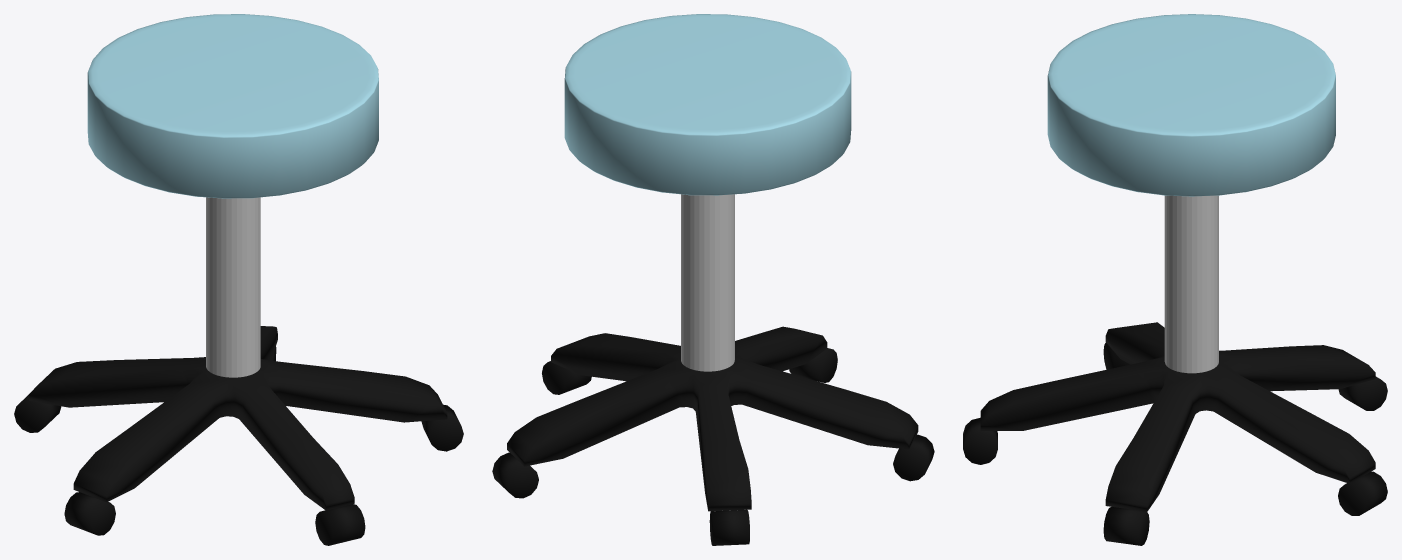
The model's file is Chair_rolling.fbx.
3 views of the same model, side by side, from view 1: azimuth 30°, elevation 25°; view 2: azimuth 150°, elevation 25°; view 3: azimuth 270°, elevation 25° (orthographic).
Visible parts, largest first — view 1: Chair - seat, Chair - plastic, Chair - rolling, ChairWheel, ChairWheel.001, ChairWheel.002, ChairWheel.004; view 2: Chair - seat, Chair - plastic, Chair - rolling, ChairWheel.003, ChairWheel.004, ChairWheel.001, ChairWheel.002, ChairWheel; view 3: Chair - seat, Chair - plastic, Chair - rolling, ChairWheel.002, ChairWheel.003, ChairWheel, ChairWheel.004.
Part boxes in pixels (x1,y1,x2,y2): Chair - seat: (87,14,378,198); Chair - plastic: (29,326,447,510); Chair - rolling: (206,197,260,377); ChairWheel: (315,504,365,545); ChairWheel.001: (64,492,115,535); ChairWheel.002: (421,404,463,451); ChairWheel.004: (14,394,61,432); Chair - seat: (564,14,851,195); Chair - plastic: (507,326,918,511); Chair - rolling: (681,194,734,371); ChairWheel.003: (492,452,538,498); ChairWheel.004: (709,509,749,545); ChairWheel.001: (893,434,934,481); ChairWheel.002: (542,361,591,394); ChairWheel: (789,348,837,382); Chair - seat: (1047,14,1335,196); Chair - plastic: (980,322,1375,511); Chair - rolling: (1164,195,1218,373); ChairWheel.002: (1103,507,1149,545); ChairWheel.003: (1338,471,1387,515); ChairWheel: (963,417,997,464); ChairWheel.004: (1338,376,1387,410).
Bounding box in the file's own units: 51.12 × 48.43 × 48.62.
